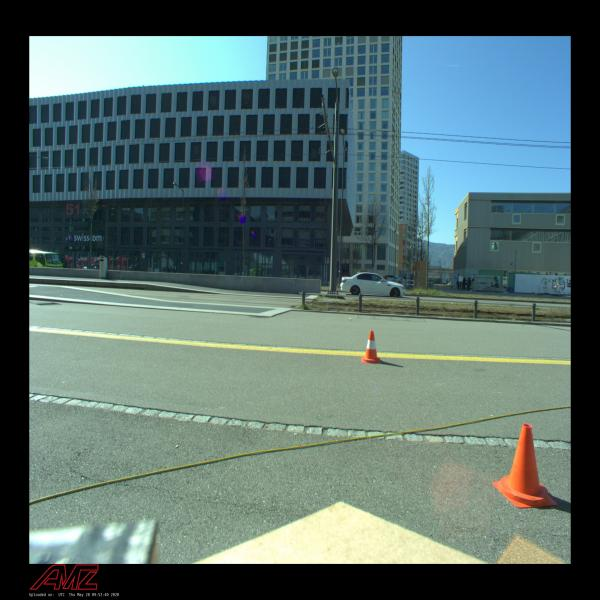orange_cone: (492, 424, 557, 508), (361, 331, 381, 364)
